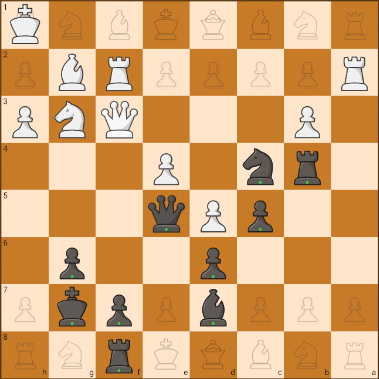bb: (192, 288, 232, 329)
bk: (51, 284, 91, 328)
bn: (241, 146, 278, 187)
bp: (192, 246, 235, 284), (241, 196, 281, 235), (103, 290, 135, 328), (57, 243, 87, 281)
bq: (145, 194, 188, 235)
br: (101, 335, 137, 376), (290, 147, 326, 188)
wb: (56, 54, 91, 95)
wk: (6, 3, 45, 45)
wn: (54, 99, 86, 139)
wp: (3, 102, 43, 140), (147, 147, 183, 187), (290, 105, 326, 142), (200, 197, 228, 234)
wq: (100, 100, 141, 139)
wr: (99, 53, 142, 95), (337, 55, 372, 94)
